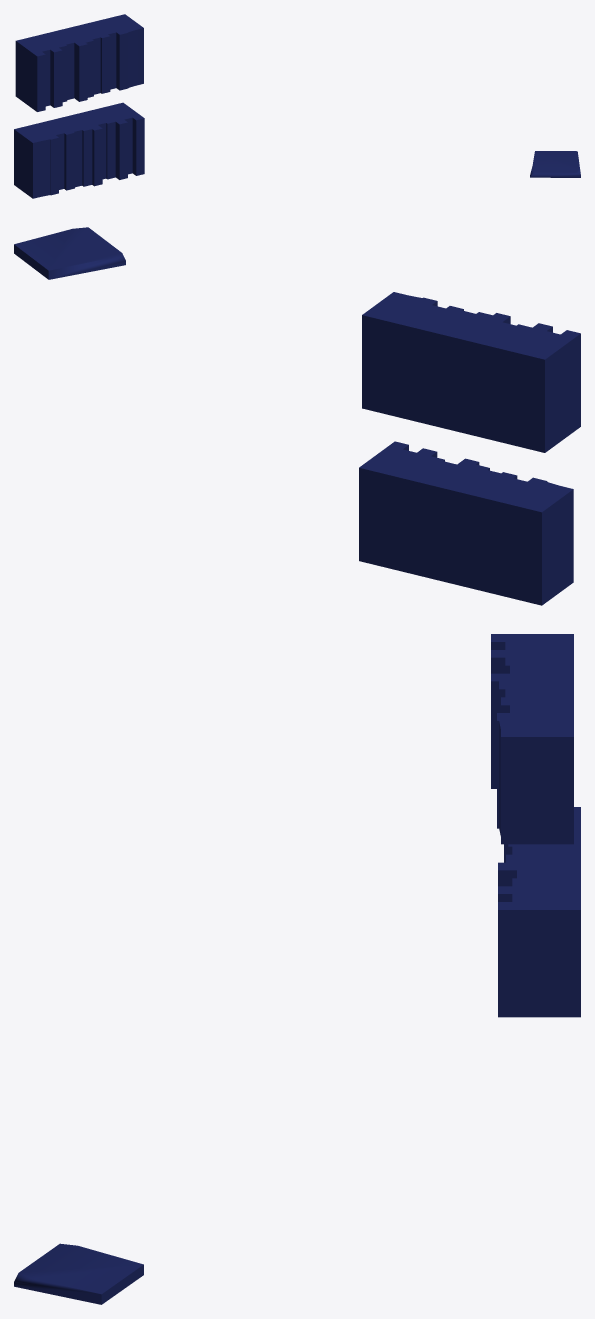
The model's file is UVMap_FencetoManor.obj.
3 renders of one model, top to bottom at view 1: azimuth 30°, elevation 25°; view 2: azimuth 150°, elevation 25°; view 3: azimuth 270°, elevation 25°, orthographic. The views are drawn at different scales.
Parts seen in each view (by area): view 1: pCube13 Bookshelf2, Bookshelf2 pCube14, pCube12 Chair; view 2: Bookshelf2 pCube14, pCube13 Bookshelf2, pCube12 Chair; view 3: Bookshelf2 pCube14, pCube13 Bookshelf2, pCube12 Chair.
Boxes of the visible parts, x1,y1,x2,y2 form: pCube13 Bookshelf2: (14,102,144,198); Bookshelf2 pCube14: (15,14,143,111); pCube12 Chair: (530,151,580,177); Bookshelf2 pCube14: (362,292,580,452); pCube13 Bookshelf2: (359,441,573,605); pCube12 Chair: (14,227,125,279); Bookshelf2 pCube14: (491,634,573,844); pCube13 Bookshelf2: (498,807,580,1017); pCube12 Chair: (14,1243,143,1304).
Size of the model in its own units: 15.3 by 4.84 by 8.86.
